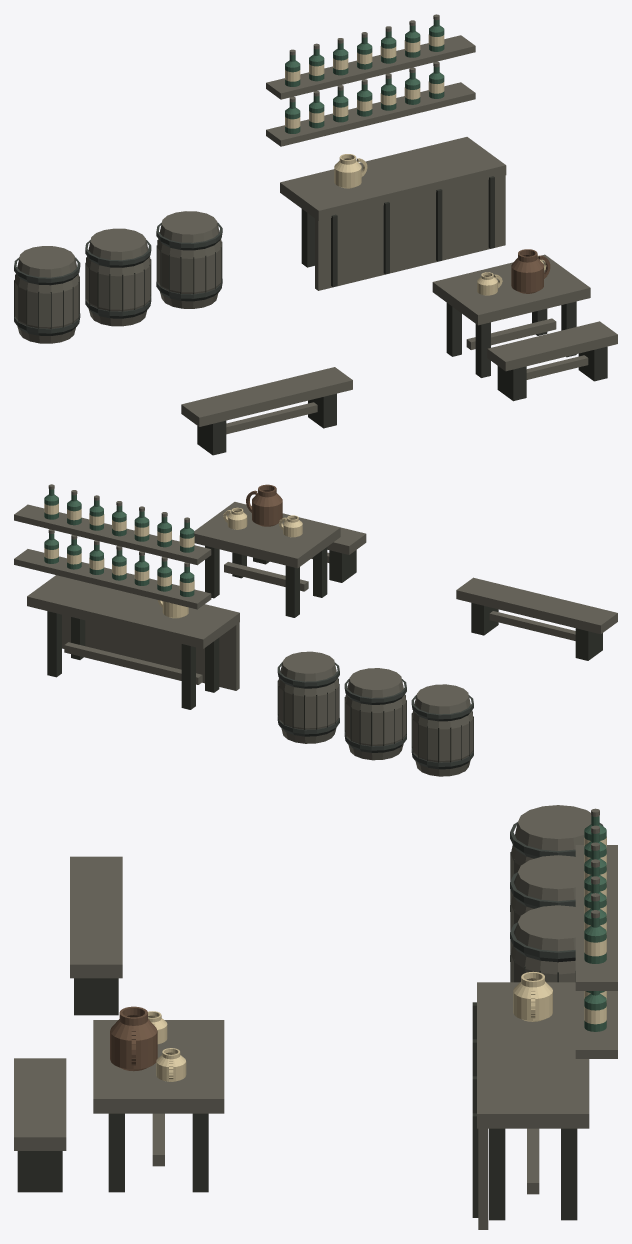
Rendered from village_copperkettle_artifacts.glb.
3 views of the same model, one above another, from view 1: azimuth 30°, elevation 25°; view 2: azimuth 150°, elevation 25°; view 3: azimuth 270°, elevation 25° (orthographic). The views are drawn at different scales.
Parts seen in each view (by area): view 1: village_copperkettle_artifacts; view 2: village_copperkettle_artifacts; view 3: village_copperkettle_artifacts.
Part boxes in pixels (<box>): village_copperkettle_artifacts: <box>14,14,617,455</box>; village_copperkettle_artifacts: <box>14,484,617,776</box>; village_copperkettle_artifacts: <box>14,805,617,1229</box>.
Bounding box in the file's own units: 6.19 × 2.66 × 4.84.
